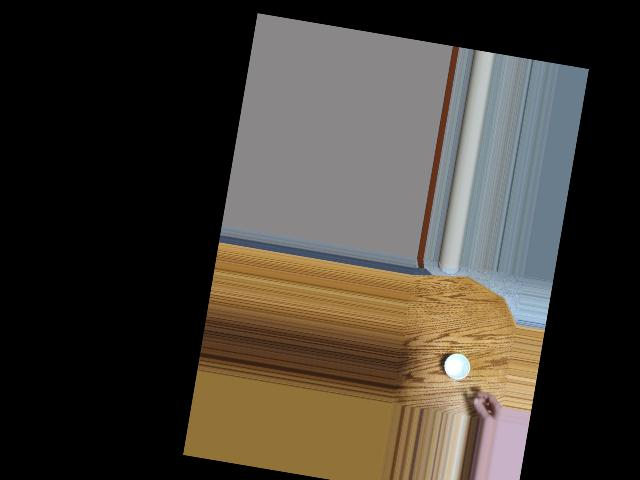cotage: (442, 350, 476, 387)
